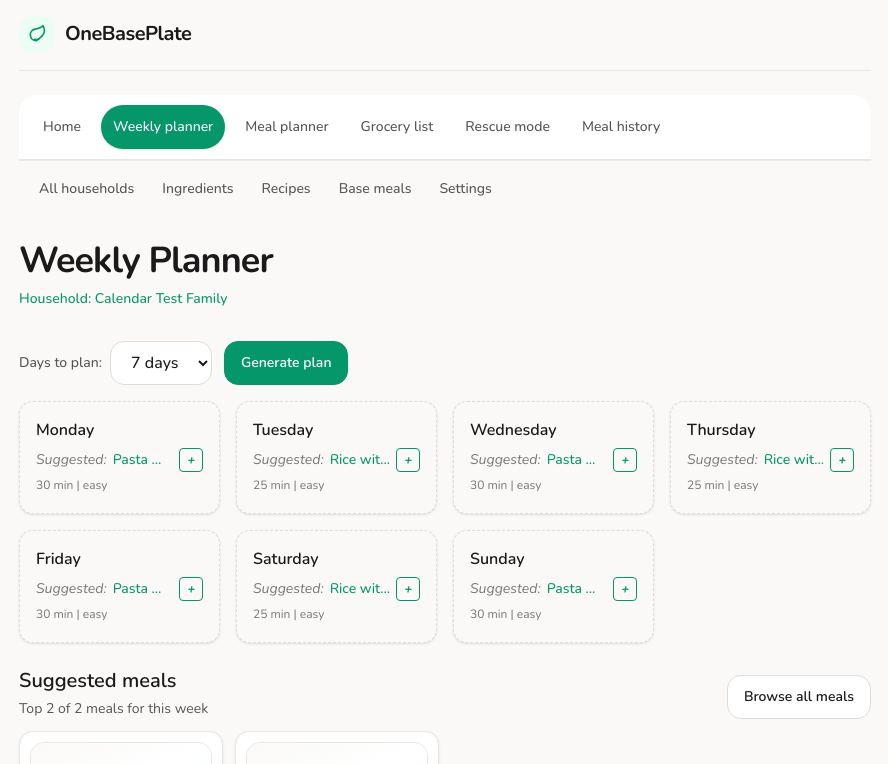
Test: F021: Weekly Planner always shows day cards › adds suggested meal to the day when + is clicked
This screenshot has width=888, height=764.
Click the button with test id "suggested-meal-add-monday". click: point(191, 460)
box: x1=179 y1=448 x2=203 y2=472
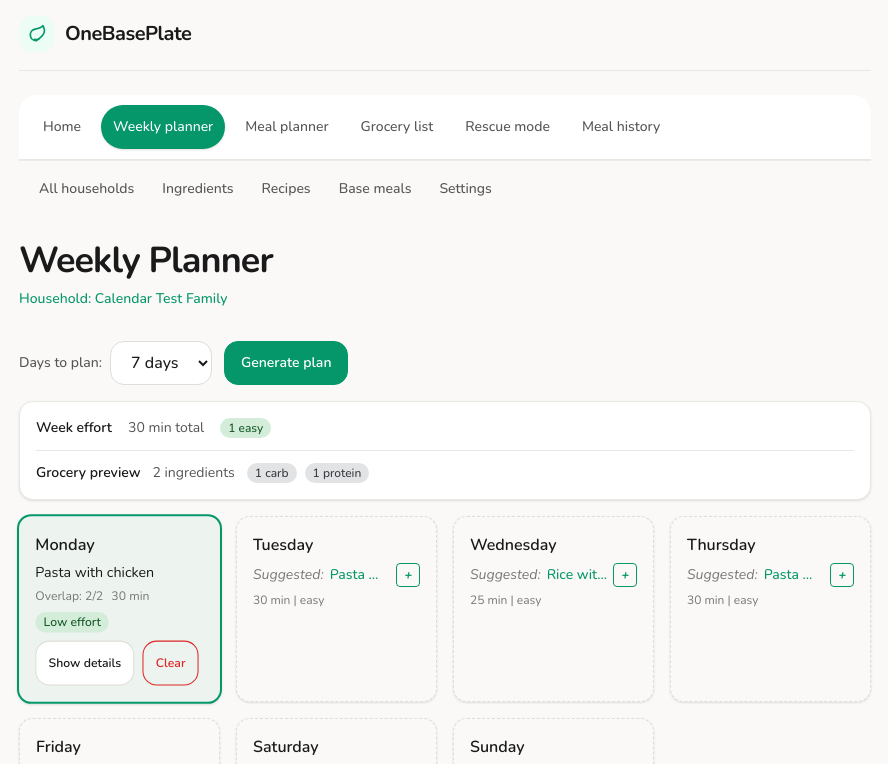
Expected: the element with test id "empty-monday" is gone
Expected: the button with test id "toggle-monday" is shown, x1=35 y1=640 x2=134 y2=685
